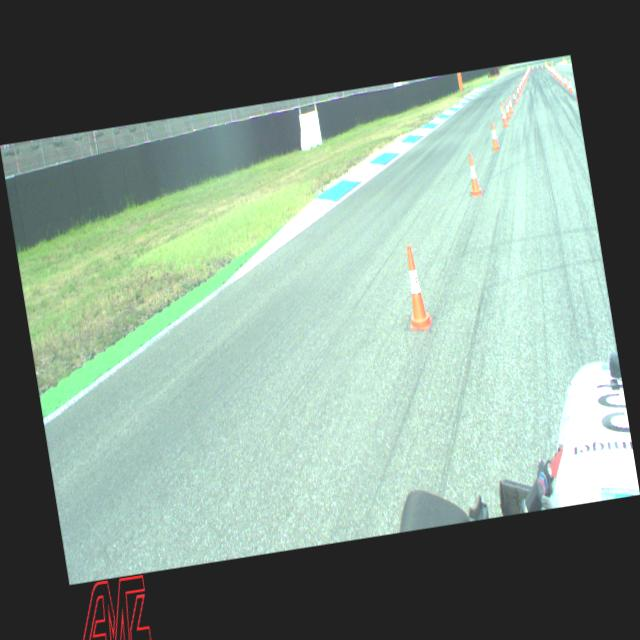orange_cone: (397, 244, 434, 332), (464, 152, 482, 196), (488, 122, 501, 150), (500, 106, 509, 128), (504, 99, 512, 121), (507, 96, 514, 113), (568, 78, 574, 92), (512, 90, 518, 104), (563, 75, 568, 88), (558, 74, 563, 85), (516, 85, 520, 97), (574, 90, 578, 102), (518, 82, 522, 92), (556, 70, 560, 80), (554, 70, 558, 78), (520, 80, 524, 88), (523, 74, 526, 82), (522, 76, 524, 86), (501, 100, 504, 106), (532, 64, 534, 70), (536, 64, 538, 70), (542, 64, 544, 68)
